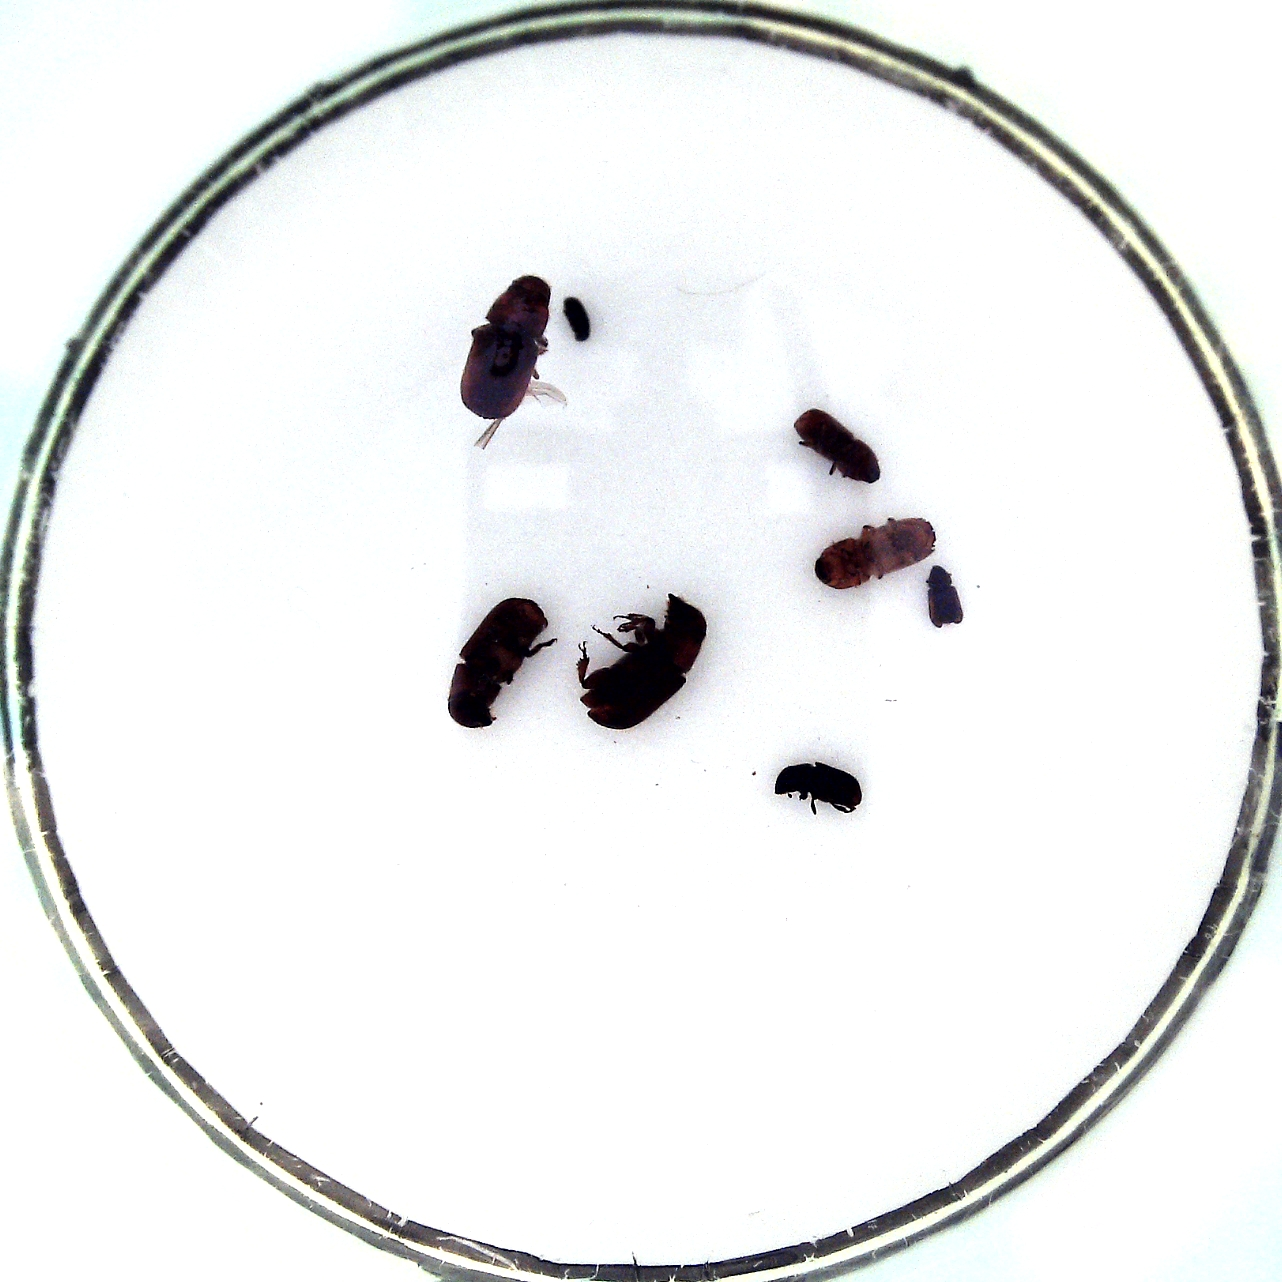Boerner: (814, 517, 936, 589)
Leconte: (579, 594, 707, 729), (460, 275, 552, 421), (447, 598, 548, 729)
armandi: (772, 760, 862, 812)
coleoptera: (925, 564, 963, 627)
linnaeus: (794, 407, 880, 484)
